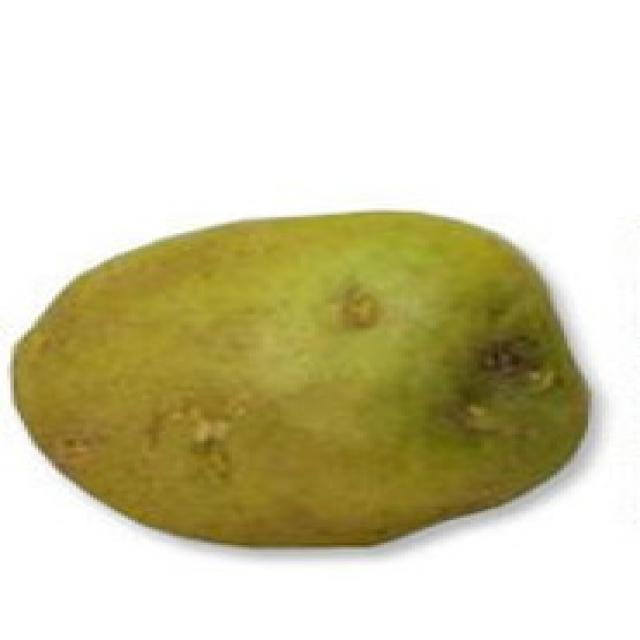Potato: (4, 204, 598, 552)
